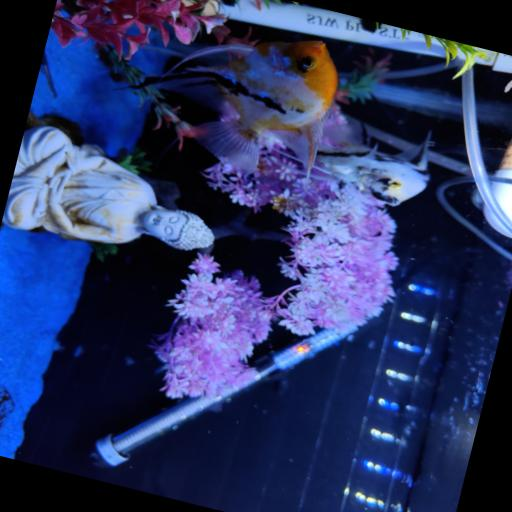Fish: (140, 40, 337, 173), (315, 121, 429, 205)
